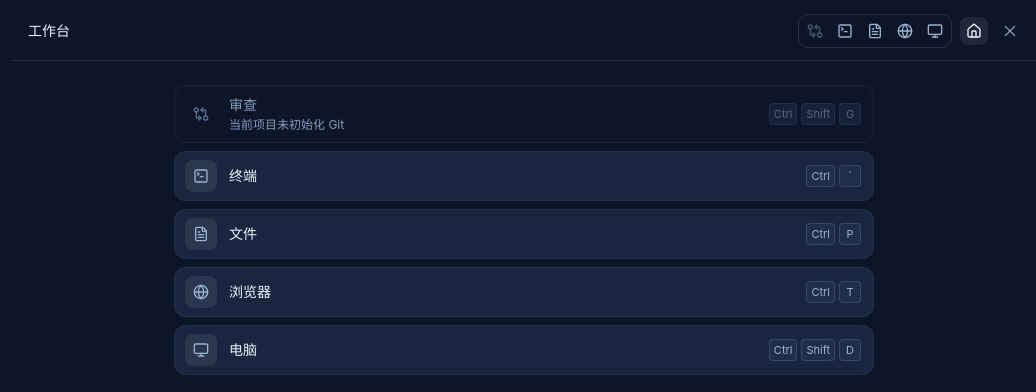
Scenario: WorkspacePanel › switches panes from the launcher and the header, home returns
The width and height of the screenshot is (1036, 392).
What coordinates should you click on to do the following:
click the button "终端 Ctrl `"
I would click on:
 (201, 176)
Its box is [174,151,874,201].
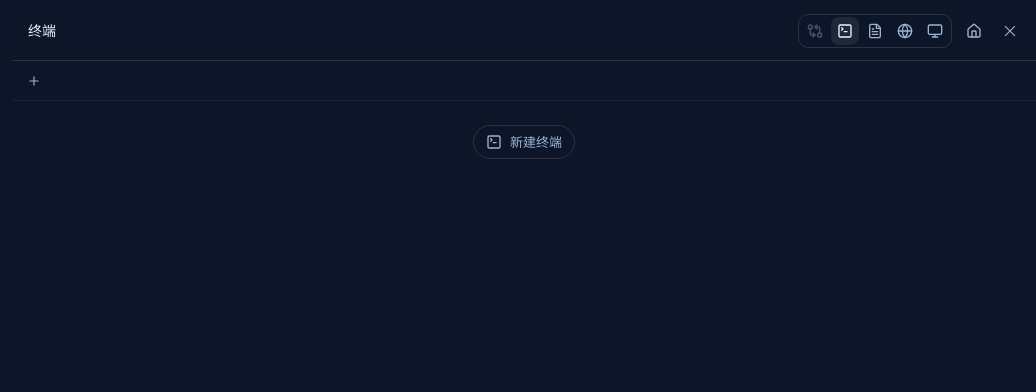
Now the heading with class "workspace-title" reads "终端", box [28,22,56,39]
What coordinates should you click on to do the following:
click the button named "文件"
I would click on:
 (875, 31)
Its box is [861,17,889,45].
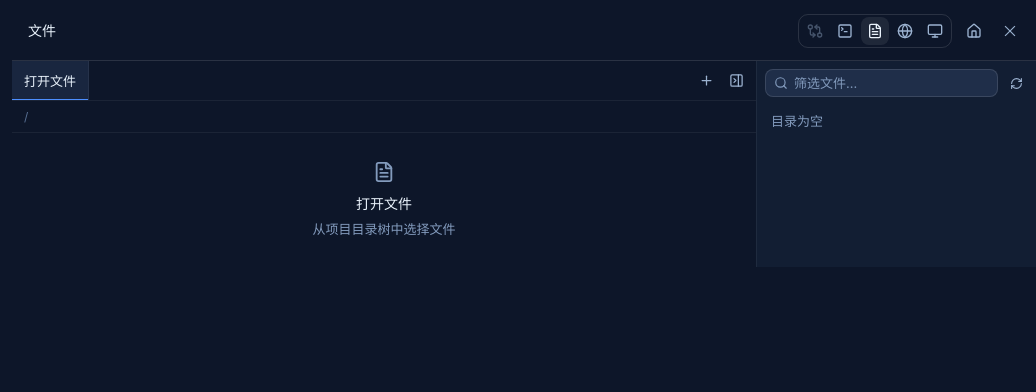
What coordinates should you click on to do the following:
click the button named "电脑"
I would click on:
 (935, 31)
Its box is [921,17,949,45].
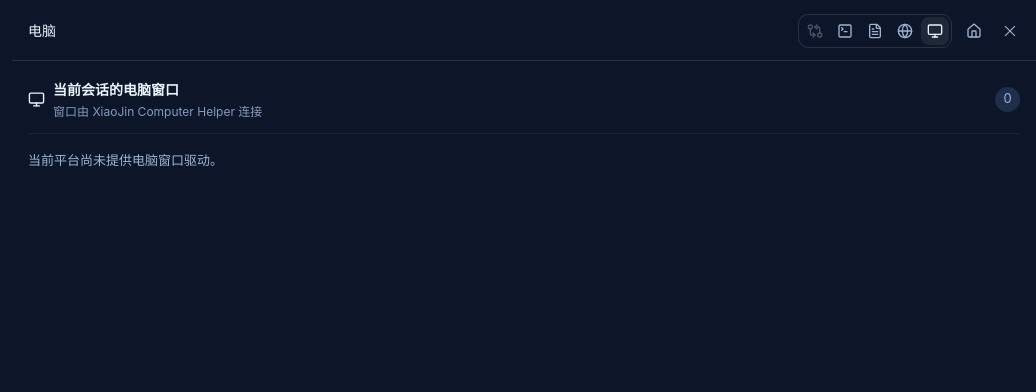
Now the heading with class "workspace-title" reads "电脑", box [28,22,56,39]
What coordinates should you click on to do the following:
click the button named "工作台首页"
I would click on:
 (974, 31)
Its box is [960,17,988,45].
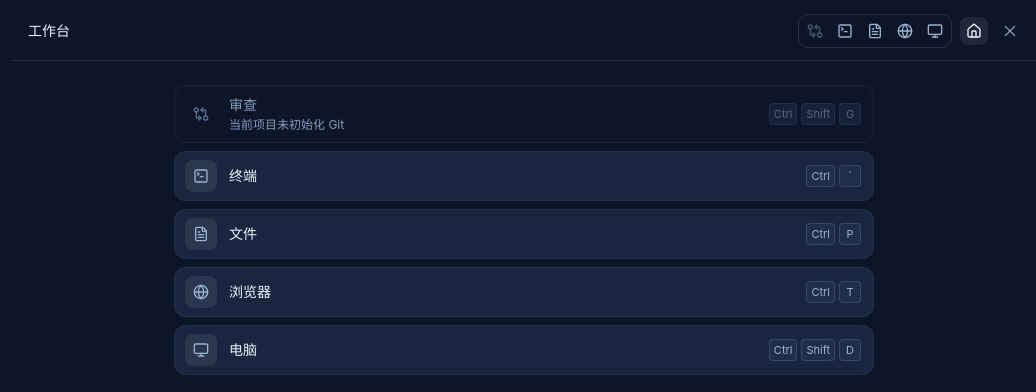
Now the element with class "workspace-launcher" is shown, box [174,85,874,375]
